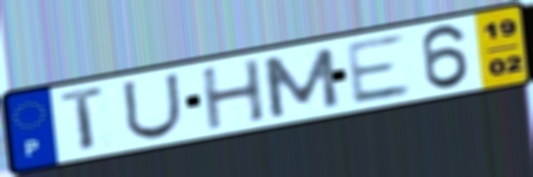6: (418, 24, 472, 92)
E: (342, 32, 415, 108)
H: (198, 56, 270, 133)
M: (258, 45, 344, 121)
T: (58, 82, 110, 155)
U: (119, 71, 184, 142)
